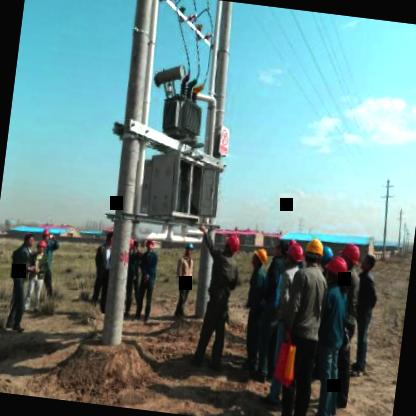head: (357, 250, 379, 275), (19, 228, 38, 250)
helmet: (322, 254, 350, 289), (302, 234, 328, 270), (336, 238, 362, 272), (220, 228, 243, 260), (245, 245, 270, 272), (284, 242, 304, 269), (179, 238, 197, 262), (32, 238, 48, 257)
